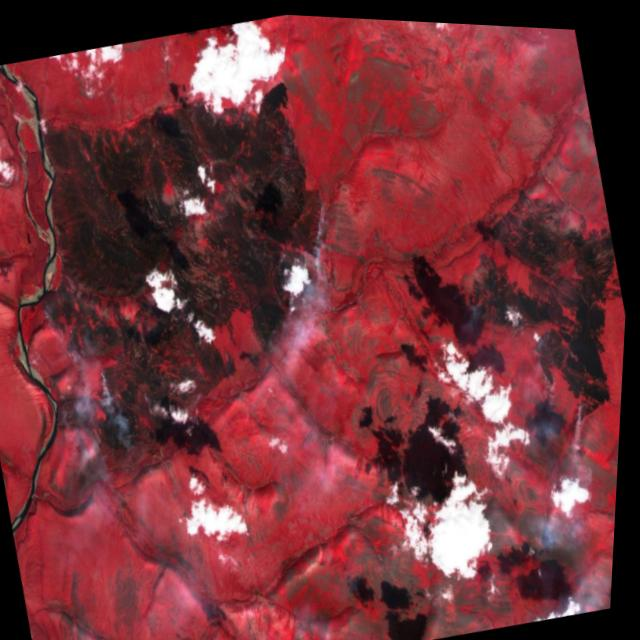fire: (404, 201, 614, 467), (29, 267, 178, 481), (255, 161, 359, 319)
